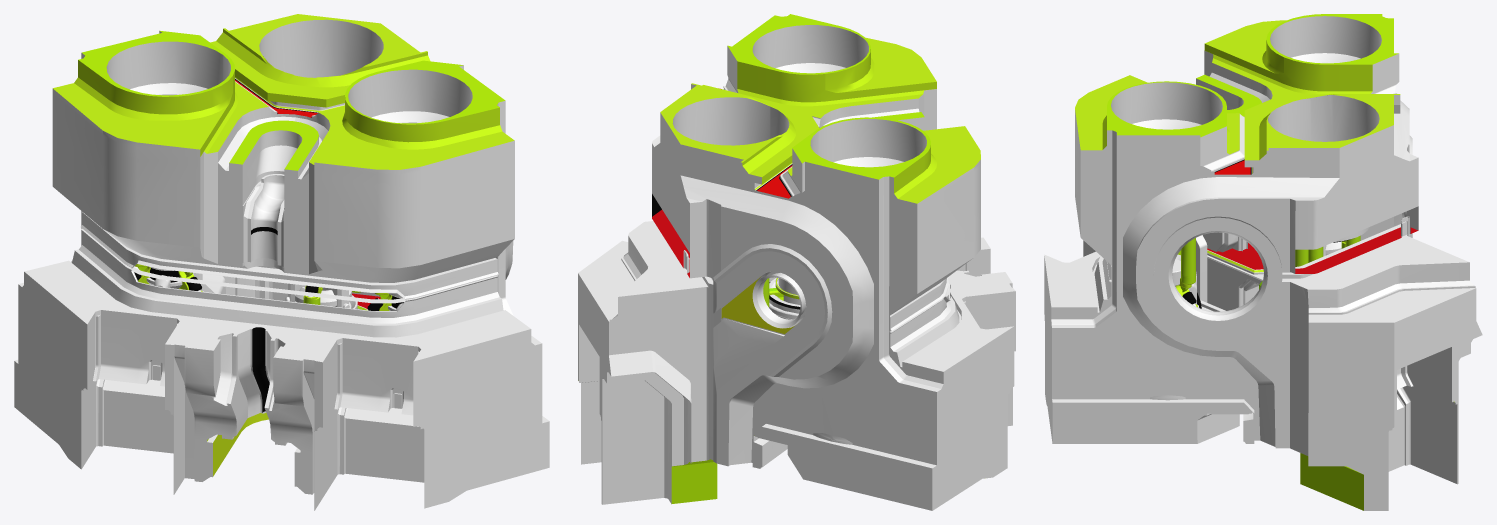
Rendered from part_main-lod0.dae.
The picture shows the model from 3 angles, left to right: view 1: azimuth 30°, elevation 25°; view 2: azimuth 150°, elevation 25°; view 3: azimuth 270°, elevation 25°; orthographic projection. The views are drawn at different scales.
Parts seen in each view (by area): view 1: part_main-lod0Xlod0Xp2genericXgen_p2_hulltextureaged_02_b, part_main-lod0Xlod0Xp2genericXgen_p2_hullpattern_01, part_main-lod0Xlod0Xp2multimatXp2_multimat_01, part_main-lod0Xlod0Xp2genericXgen_p2_hulltexture_02_c; view 2: part_main-lod0Xlod0Xp2genericXgen_p2_hullpattern_01, part_main-lod0Xlod0Xp2genericXgen_p2_hulltextureaged_02_b, part_main-lod0Xlod0Xp2multimatXp2_multimat_01; view 3: part_main-lod0Xlod0Xp2genericXgen_p2_hullpattern_01, part_main-lod0Xlod0Xp2genericXgen_p2_hulltextureaged_02_b, part_main-lod0Xlod0Xp2multimatXp2_multimat_01.
Part boxes in pixels (x1=…): part_main-lod0Xlod0Xp2genericXgen_p2_hulltextureaged_02_b: x1=14, y1=31, x2=549, y2=510; part_main-lod0Xlod0Xp2genericXgen_p2_hullpattern_01: x1=14, y1=19, x2=549, y2=510; part_main-lod0Xlod0Xp2multimatXp2_multimat_01: x1=78, y1=14, x2=505, y2=476; part_main-lod0Xlod0Xp2genericXgen_p2_hulltexture_02_c: x1=134, y1=79, x2=382, y2=412; part_main-lod0Xlod0Xp2genericXgen_p2_hullpattern_01: x1=578, y1=25, x2=1015, y2=504; part_main-lod0Xlod0Xp2genericXgen_p2_hulltextureaged_02_b: x1=579, y1=37, x2=1015, y2=510; part_main-lod0Xlod0Xp2multimatXp2_multimat_01: x1=578, y1=14, x2=930, y2=380; part_main-lod0Xlod0Xp2genericXgen_p2_hullpattern_01: x1=1044, y1=16, x2=1482, y2=510; part_main-lod0Xlod0Xp2genericXgen_p2_hulltextureaged_02_b: x1=1044, y1=20, x2=1457, y2=510; part_main-lod0Xlod0Xp2multimatXp2_multimat_01: x1=1107, y1=14, x2=1454, y2=402.
Bounding box in the file's own units: 66.68 × 62.77 × 71.26.
